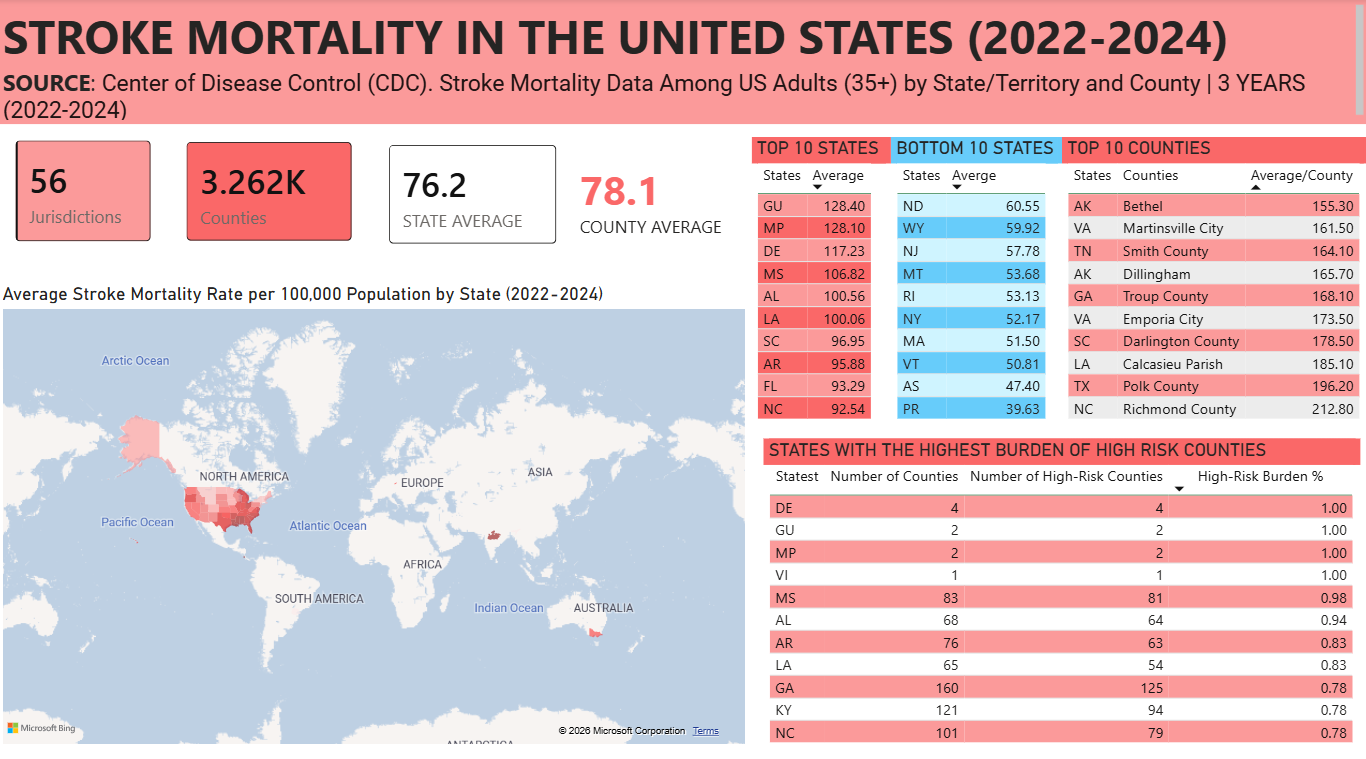

The page's visual inventory and layout, read from the dashboard file:
{"tool":"powerbi","page":{"name":"Page 1","canvas":[1280,720],"ordinal":0},"visuals":[{"type":"filledMap","title":"Average Stroke Mortality Rate per 100,000 Population by State (2022-2024) ","fields":{"Category":["States (States avg).States"],"Series":["States (States avg).State avg"]},"box":[0,265,703.3,435],"z":0},{"type":"tableEx","title":"TOP 10 STATES","fields":{"Values":["States (States avg).States","States (States avg).State avg"]},"box":[703.3,128.3,130,271.7],"z":1000},{"type":"tableEx","title":"BOTTOM 10 STATES","fields":{"Values":["States (States avg).States","States (States avg).State avg"]},"box":[833.3,128.3,160,273.3],"z":2000},{"type":"tableEx","title":"TOP 10 COUNTIES","fields":{"Values":["States (Counties avg).States","States (Counties avg).Counties ","Sum(States (Counties avg).avg per county)"]},"box":[993.3,128.3,286.7,271.7],"z":3000},{"type":"tableEx","title":" STATES WITH THE HIGHEST BURDEN OF HIGH RISK COUNTIES","fields":{"Values":["Burden of SM per states.Statest","Sum(Burden of SM per states.nomber  of counties)","Sum(Burden of SM per states.number of high risk counties)","Sum(Burden of SM per states.highest risk%)"]},"box":[715,410,556.7,310],"z":4000},{"type":"cardVisual","fields":{"Data":["Count(States (States avg).States)"]},"box":[0,115,160,128.3],"z":5000},{"type":"cardVisual","fields":{"Data":["Sum(Burden of SM per states.nomber  of counties)"]},"box":[160,116.7,188.3,126.7],"z":6000},{"type":"cardVisual","fields":{"Data":["Avg(States (States avg).State avg)"]},"box":[348.3,118.3,190,126.7],"z":7000},{"type":"textbox","box":[538.3,128.3,165,106.7],"z":8000},{"type":"textbox","box":[0,0,1280,116.7],"z":12000}]}

Visuals, with their boxes in screenshot pixels (x1, y1, x2, y2), scaled from the page's 1280x720 canvas onto the 1366x759 screenshot:
"Average Stroke Mortality Rate per 100,000 Population by State (2022-2024) " filledMap: (left=0, top=279, right=751, bottom=738)
"TOP 10 STATES" tableEx: (left=751, top=135, right=889, bottom=422)
"BOTTOM 10 STATES" tableEx: (left=889, top=135, right=1060, bottom=423)
"TOP 10 COUNTIES" tableEx: (left=1060, top=135, right=1365, bottom=422)
" STATES WITH THE HIGHEST BURDEN OF HIGH RISK COUNTIES" tableEx: (left=763, top=432, right=1357, bottom=758)
cardVisual - Count(States (States avg).States): (left=0, top=121, right=171, bottom=256)
cardVisual - Sum(Burden of SM per states.nomber  of counties): (left=171, top=123, right=372, bottom=257)
cardVisual - Avg(States (States avg).State avg): (left=372, top=125, right=574, bottom=258)
textbox: (left=574, top=135, right=751, bottom=248)
textbox: (left=0, top=0, right=1365, bottom=123)
